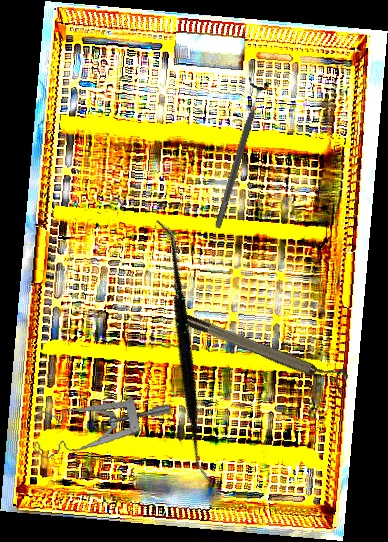Fixation Ring: (174, 301, 351, 395), (206, 75, 271, 232)
Spatula Surgical: (54, 217, 311, 485)
Speculum: (26, 379, 173, 480)
